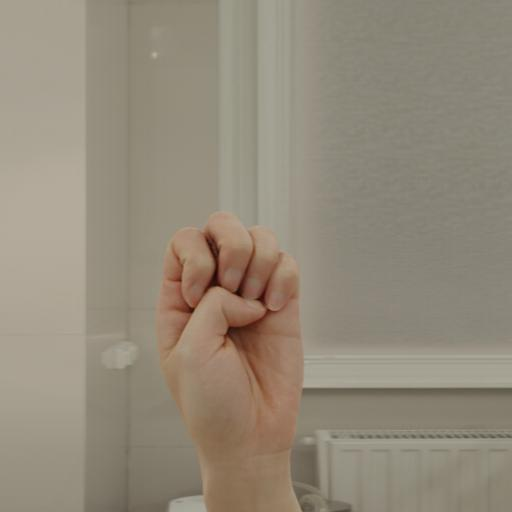E: (150, 202, 310, 477)
